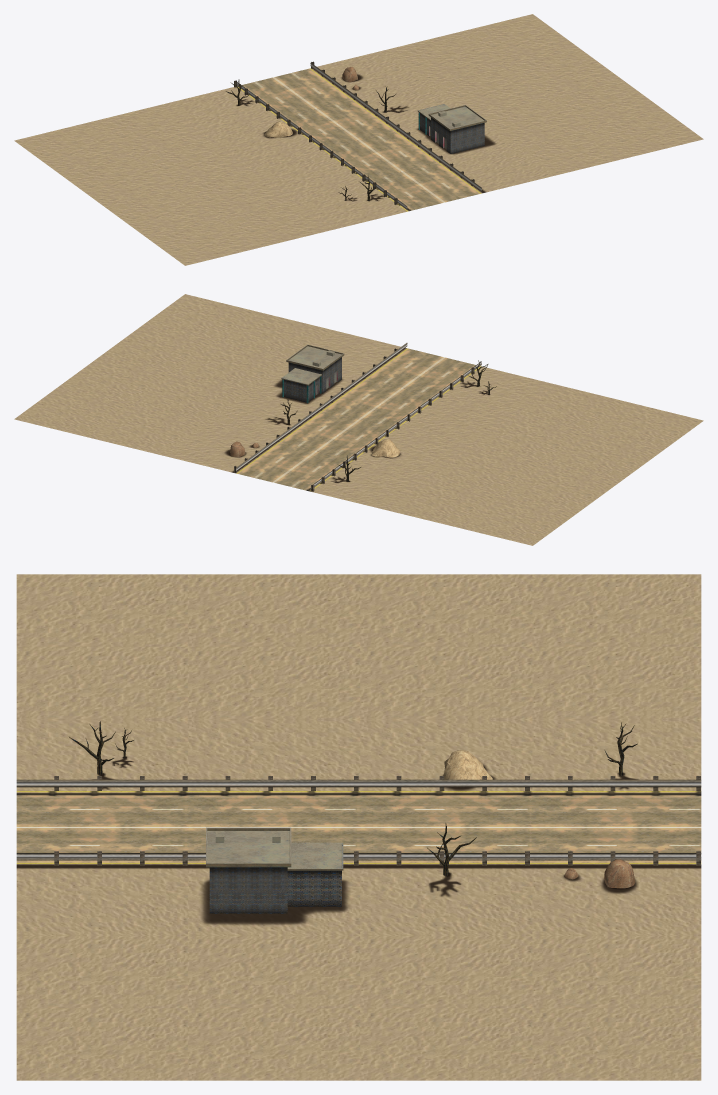
3 renders of one model, top to bottom at view 1: azimuth 30°, elevation 25°; view 2: azimuth 150°, elevation 25°; view 3: azimuth 270°, elevation 25°, orthographic. The views are drawn at different scales.
Visible parts, largest first — view 1: scene4, road011, b3; view 2: scene4, road011, b3; view 3: scene4, road011, b3, Box012, Box009, rock007.
Part boxes in pixels (<box>): scene4: <box>14,14,703,265</box>; road011: <box>234,61,481,211</box>; b3: <box>417,104,486,153</box>; scene4: <box>14,294,703,545</box>; road011: <box>234,343,481,491</box>; b3: <box>281,344,344,403</box>; scene4: <box>16,574,701,1080</box>; road011: <box>16,776,701,865</box>; b3: <box>206,827,343,913</box>; Box012: <box>69,721,637,875</box>; Box009: <box>443,750,492,779</box>; rock007: <box>564,859,635,888</box>.
Bounding box in the file's own units: 140 × 7.44 × 80.
